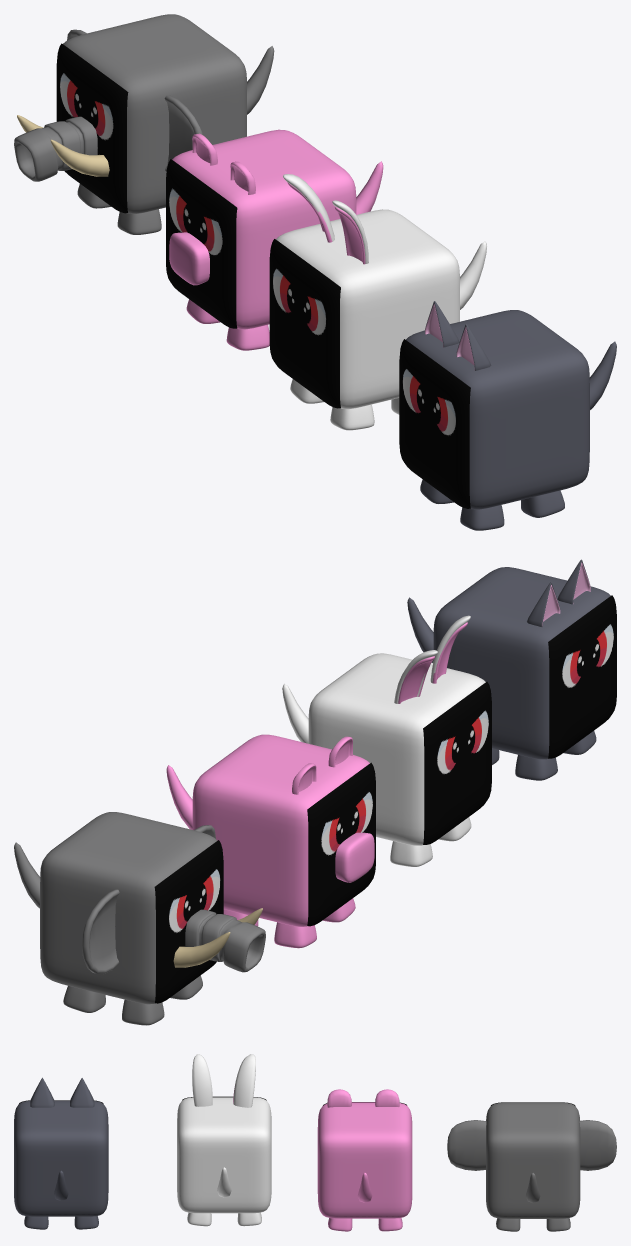
File: Sketchfab_2024_03_02_17_02_09.fbx
3 views of the same model, one above another, from view 1: azimuth 30°, elevation 25°; view 2: azimuth 150°, elevation 25°; view 3: azimuth 270°, elevation 25° (orthographic). The views are drawn at different scales.
Visible parts, largest first — view 1: 4, 3, 5, 1; view 2: 3, 1, 4, 5; view 3: 3, 5, 1, 4.
Part boxes in pixels (left/top/right/bottom): 4: left=399, top=301, right=616, bottom=530; 3: left=14, top=14, right=274, bottom=234; 5: left=269, top=174, right=486, bottom=430; 1: left=166, top=129, right=383, bottom=350; 3: left=14, top=812, right=265, bottom=1025; 1: left=166, top=734, right=375, bottom=948; 4: left=407, top=559, right=616, bottom=780; 5: left=282, top=615, right=491, bottom=866; 3: left=447, top=1102, right=616, bottom=1231; 5: left=177, top=1054, right=271, bottom=1226; 1: left=317, top=1089, right=412, bottom=1231; 4: left=14, top=1077, right=108, bottom=1229.
Size of the model in its own units: 387 by 346 by 1276.
